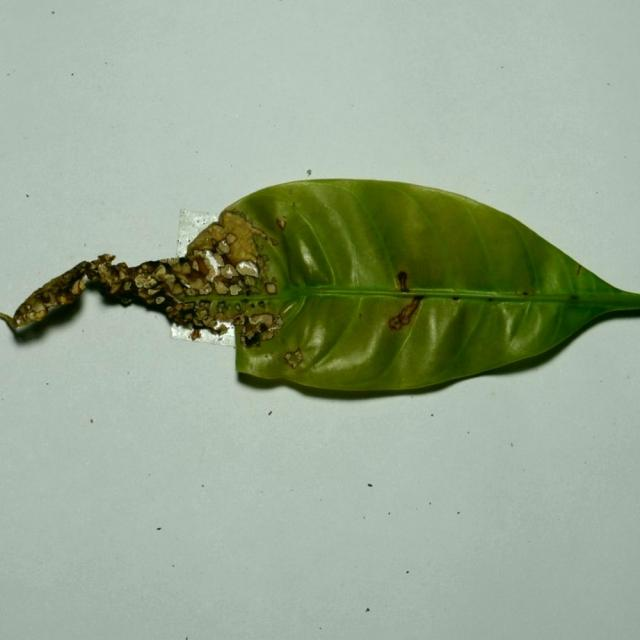Anthracnose: (207, 239, 262, 292), (221, 222, 261, 266), (176, 256, 215, 292), (95, 258, 119, 285), (249, 313, 276, 328), (200, 316, 225, 331), (135, 274, 158, 290), (194, 249, 212, 265), (29, 301, 46, 316), (70, 279, 85, 295), (210, 253, 225, 268), (217, 240, 231, 254), (225, 233, 238, 245), (43, 299, 56, 310), (28, 310, 37, 319)
Mango: (6, 179, 639, 403)
